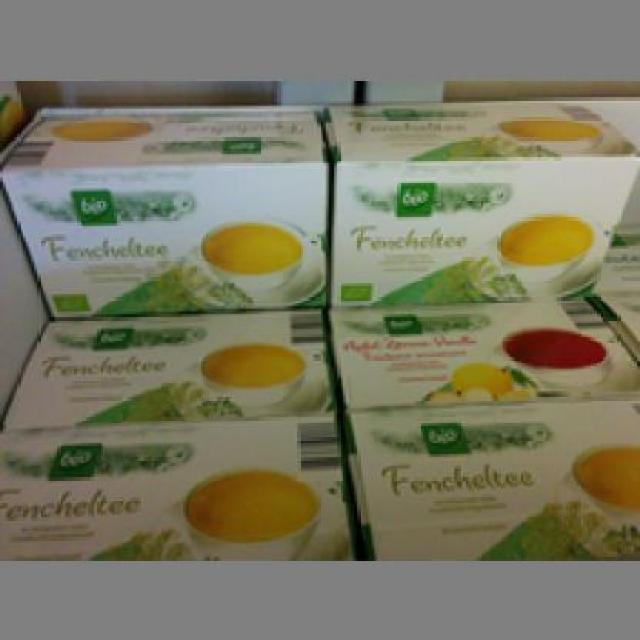Tea: (0, 106, 326, 312), (323, 105, 637, 308), (0, 413, 352, 555), (337, 406, 637, 552), (0, 312, 340, 418), (326, 300, 634, 403)
